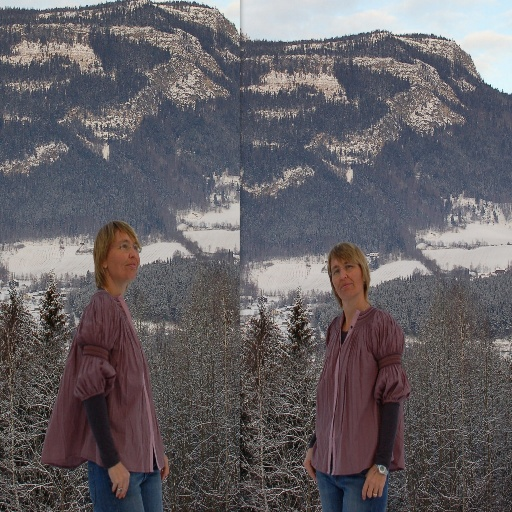hand: (360, 464, 387, 501), (106, 461, 129, 499), (301, 448, 316, 481), (159, 453, 170, 481)
